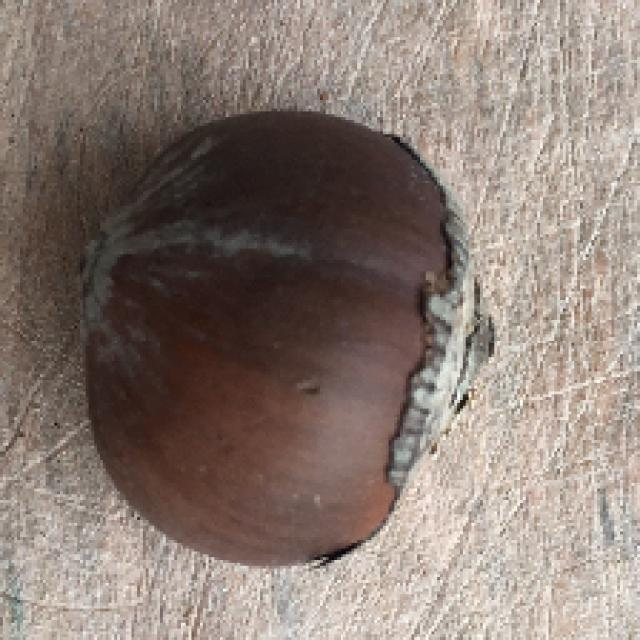damagedHazelnut: (79, 100, 501, 592)
